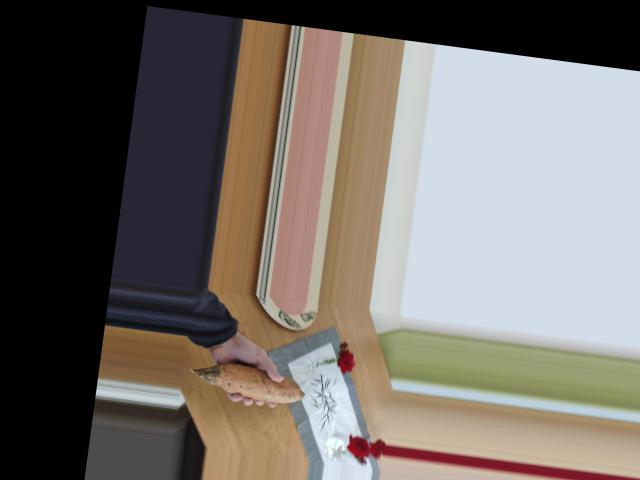sweet_potato: (197, 349, 311, 411)
